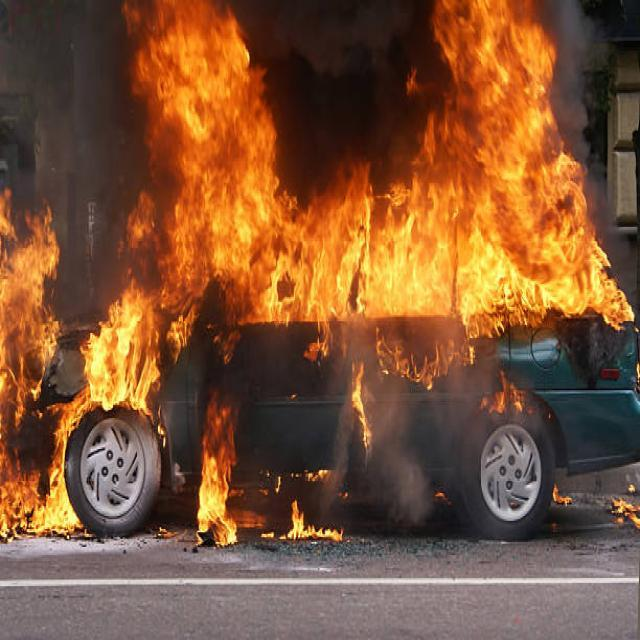Fire: (440, 4, 582, 328), (169, 170, 440, 320), (142, 4, 272, 165), (0, 200, 59, 540), (85, 293, 156, 408), (196, 422, 242, 546), (283, 503, 340, 540), (351, 362, 372, 452)
